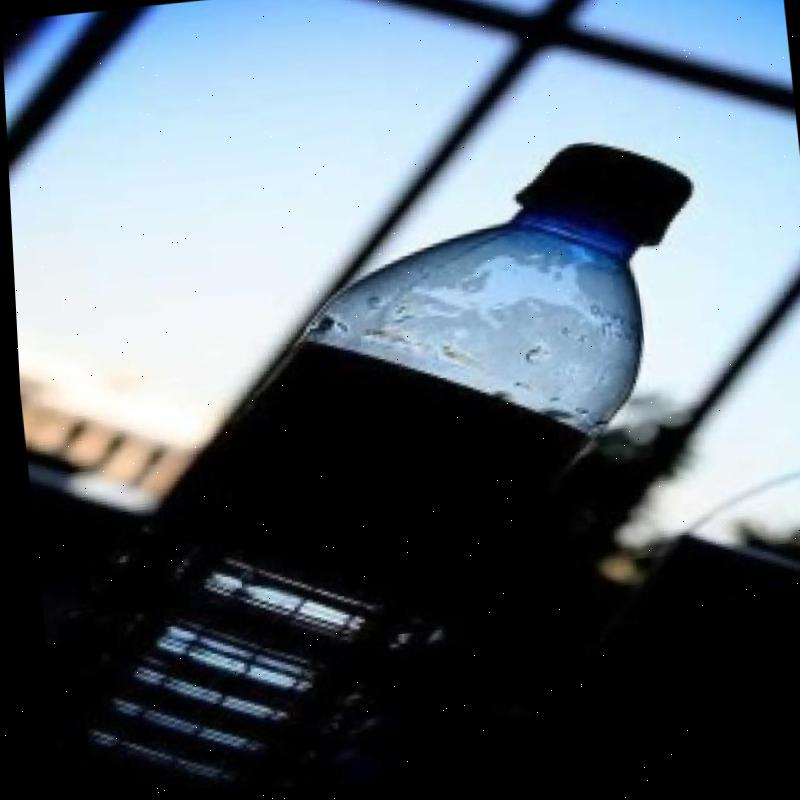botella: (14, 137, 746, 800)
